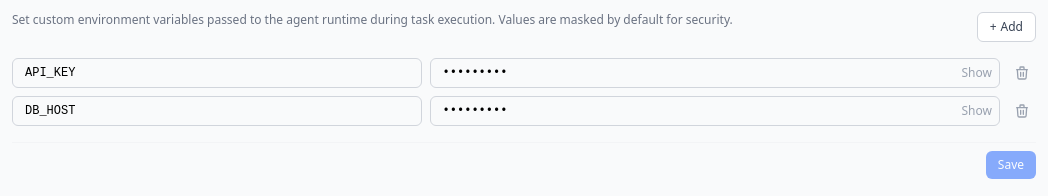
Test: EnvironmentTab › show/hide toggle works
The width and height of the screenshot is (1048, 196).
Click the button with aria-label "show value" at [977, 73], box [962,65,992,81]
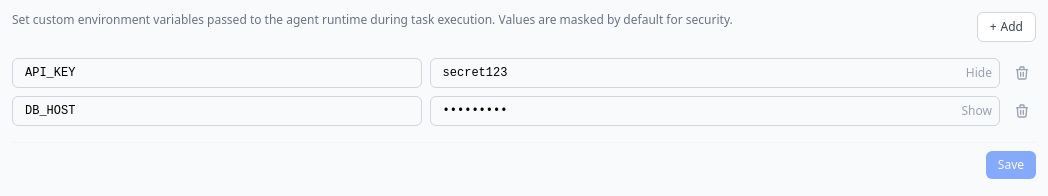
Check: the button with aria-label "Hide value" is shown, box [966,65,992,81]
Check: the field named "environment variable value" shows its text, box [430,58,1000,88]
